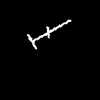double_crochet: (27, 20, 70, 48)
